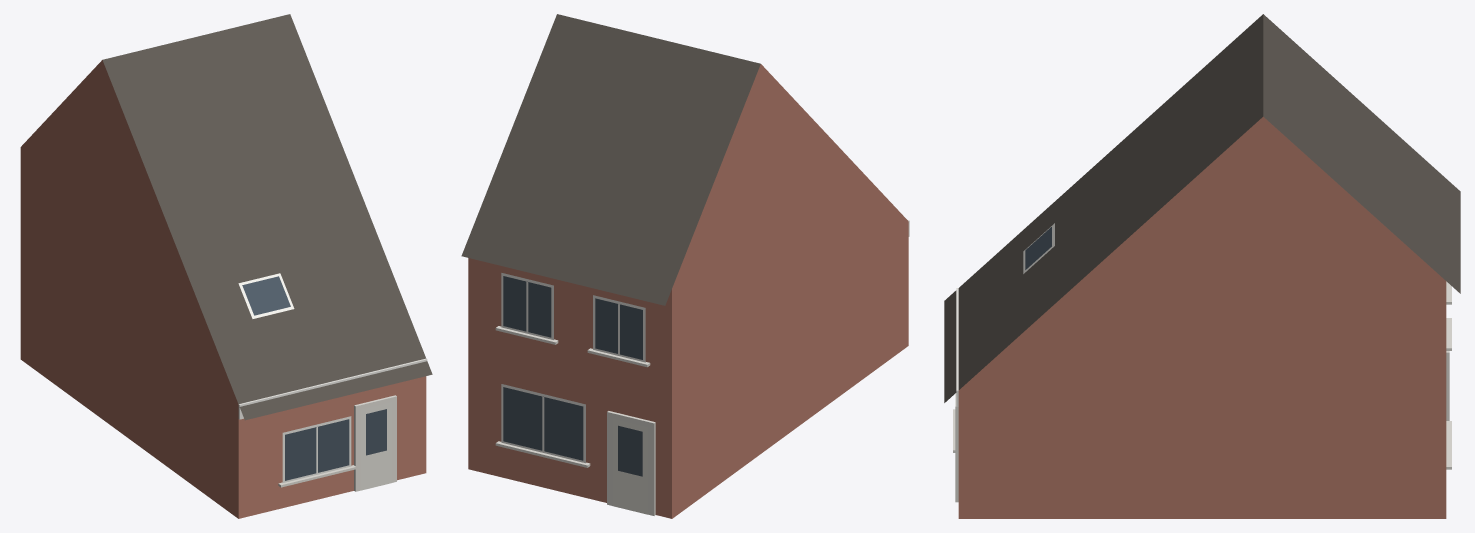
Rendered from nd-ck-roof-house__white-door__2__gable__long__solid__mirror.glb.
The picture shows the model from 3 angles, left to right: view 1: azimuth 30°, elevation 25°; view 2: azimuth 150°, elevation 25°; view 3: azimuth 270°, elevation 25°; orthographic projection. The views are drawn at different scales.
Visible parts, largest first — view 1: nd-ck-roof-house__white-door__2__gable__long__solid__mirror; view 2: nd-ck-roof-house__white-door__2__gable__long__solid__mirror; view 3: nd-ck-roof-house__white-door__2__gable__long__solid__mirror.
Part boxes in pixels (left/top/right/bottom): nd-ck-roof-house__white-door__2__gable__long__solid__mirror: left=20, top=14, right=432, bottom=518; nd-ck-roof-house__white-door__2__gable__long__solid__mirror: left=461, top=14, right=909, bottom=518; nd-ck-roof-house__white-door__2__gable__long__solid__mirror: left=944, top=14, right=1460, bottom=518.
Size of the model in its own units: 5.11 by 9.35 by 10.87.
